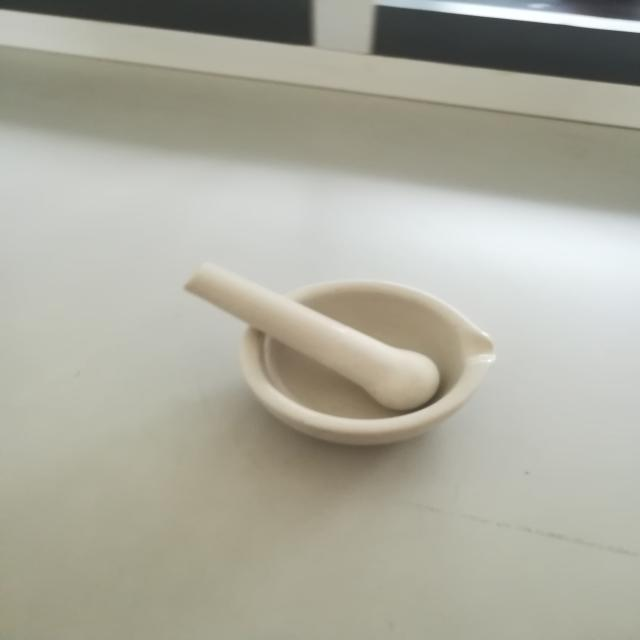Porcelain_Mortar Pestle: (144, 241, 528, 478)
